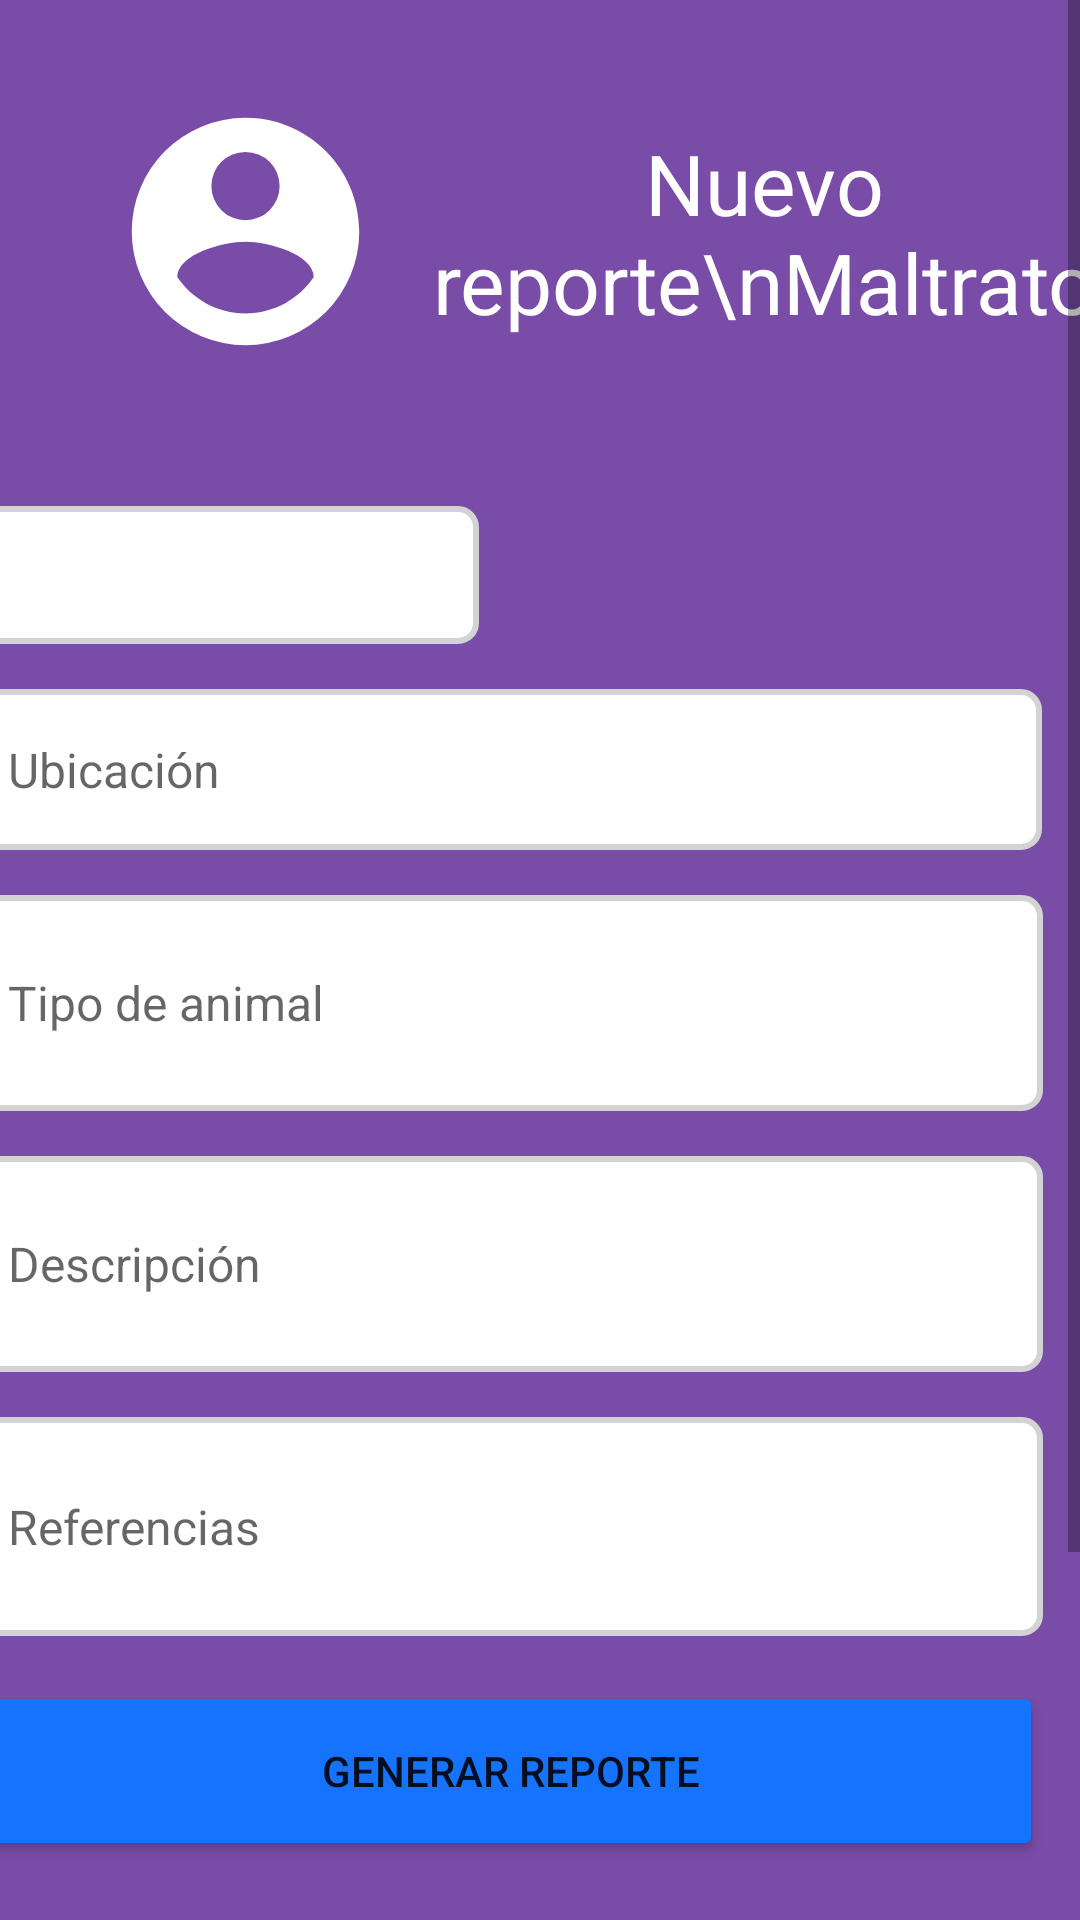

Screen size 1080w x 1920h. Icon name, then its box in pixels as (x1, y1, x2, y2):
account circle: (131, 117, 360, 346)
